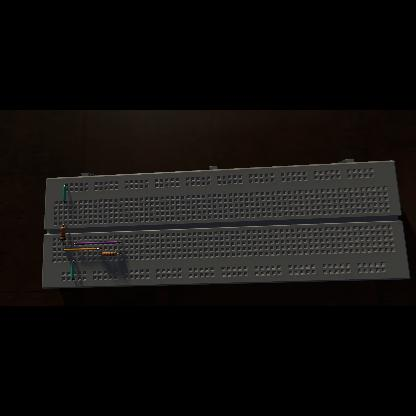breadboard: (42, 159, 410, 289)
resistor: (60, 228, 66, 242), (102, 252, 118, 257)
wire: (64, 248, 102, 252), (74, 242, 122, 245), (62, 185, 68, 203), (72, 260, 76, 280), (63, 223, 67, 226), (63, 242, 66, 246), (118, 254, 122, 255), (100, 254, 102, 255)
